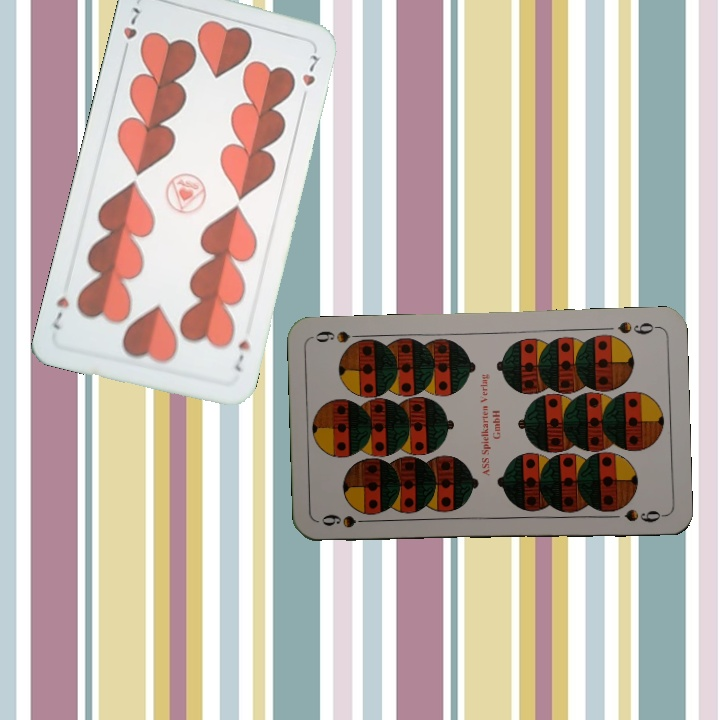H7: (118, 3, 144, 59), (231, 336, 253, 375)
S9: (317, 510, 376, 531), (614, 317, 661, 337)
